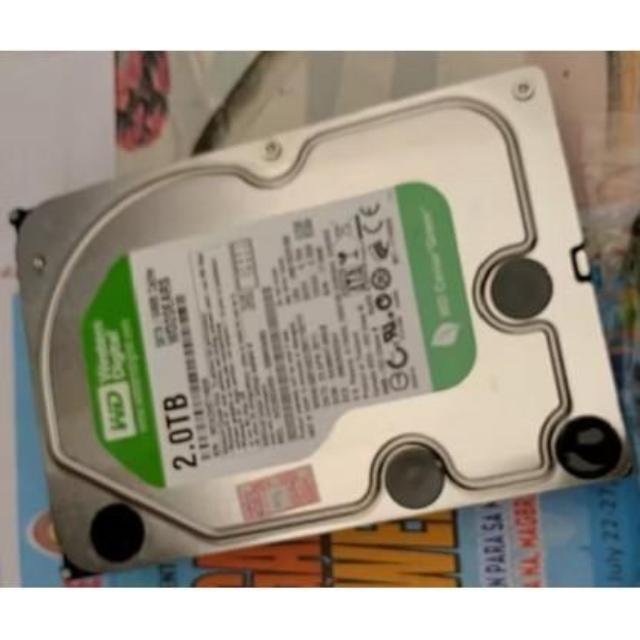DISK: (12, 68, 632, 580)
